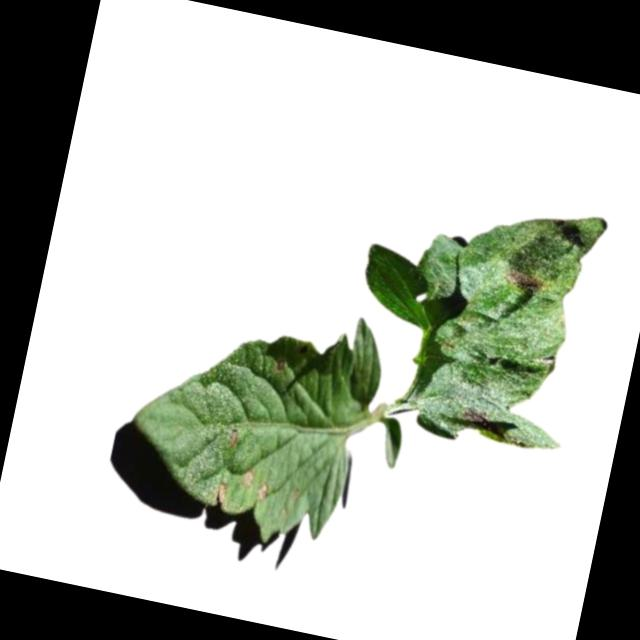Early_blight: (502, 262, 555, 296), (210, 477, 231, 507), (463, 404, 491, 424), (254, 479, 273, 504), (238, 466, 257, 489), (225, 426, 241, 445)
